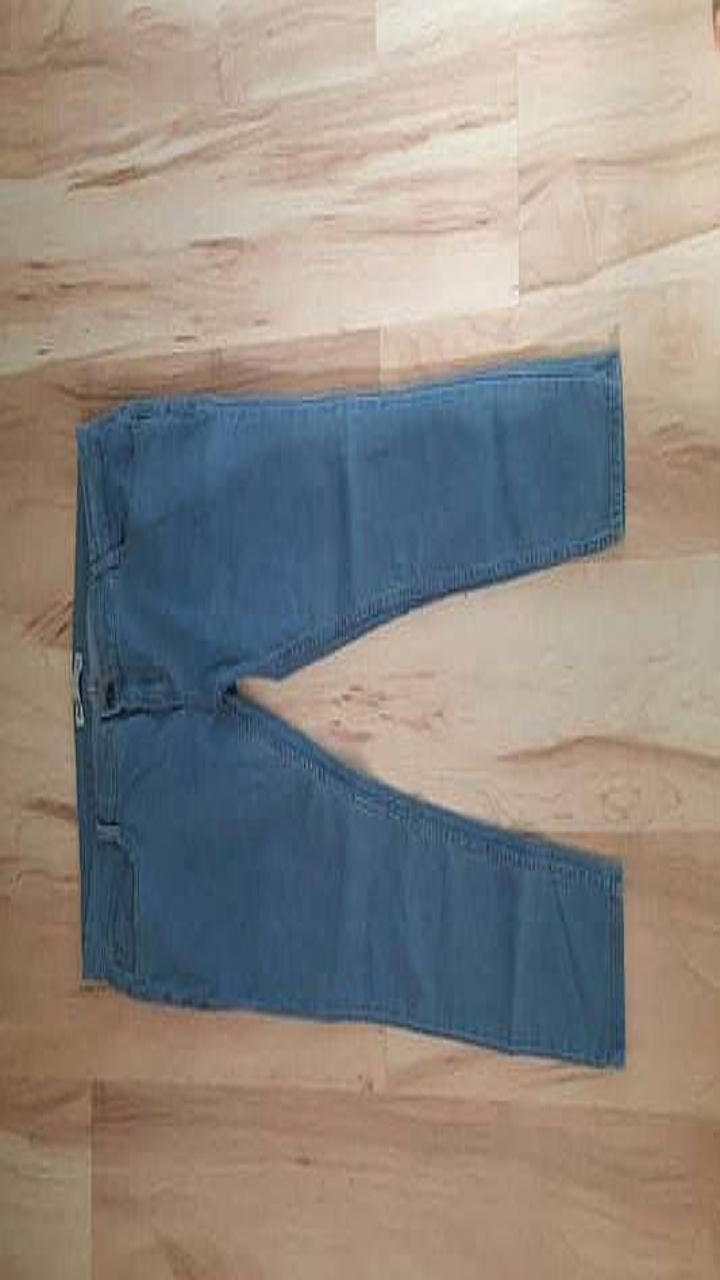Jeans: (74, 352, 624, 1063)
